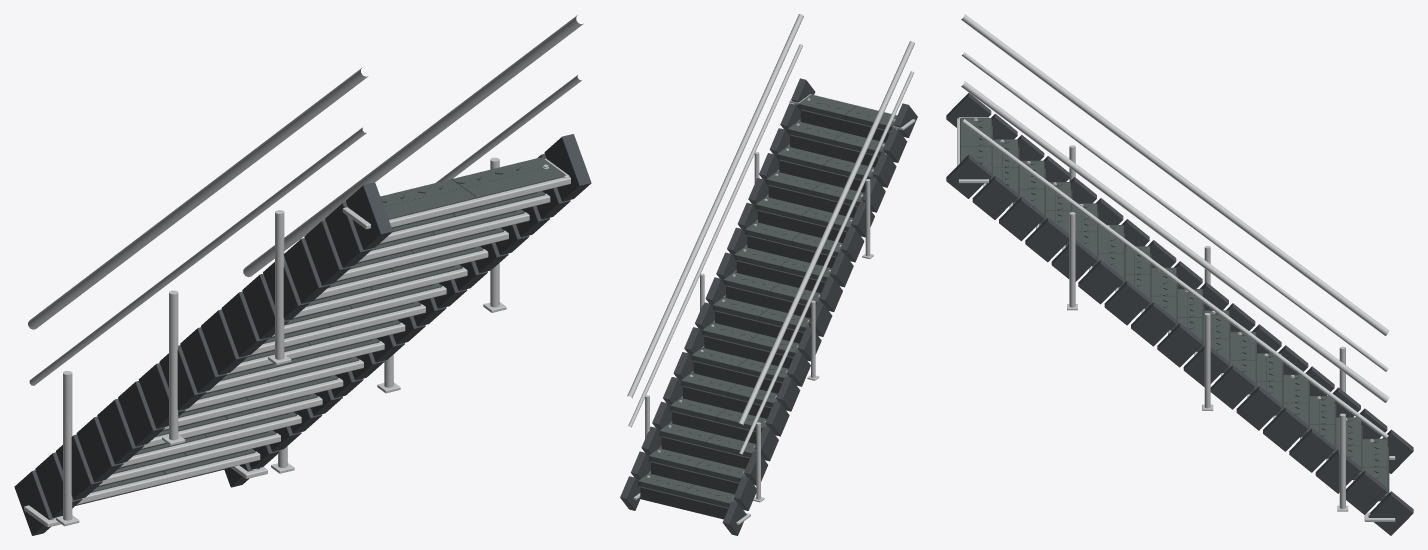
File: fps-survival-forest-outpost-stair-flight-8f862d7e__32614.glb
3 views of the same model, side by side, from view 1: azimuth 30°, elevation 25°; view 2: azimuth 150°, elevation 25°; view 3: azimuth 270°, elevation 25° (orthographic). The views are drawn at different scales.
Parts seen in each view (by area): view 1: stair-flight; view 2: stair-flight; view 3: stair-flight.
Boxes of the visible parts, box(x1,y1,x2,y2) form: stair-flight: box(14, 15, 591, 535); stair-flight: box(620, 14, 917, 535); stair-flight: box(946, 14, 1413, 535).
Size of the model in its own units: 1.67 by 4.95 by 4.61.
Materials: 3 (1 with a texture image).
